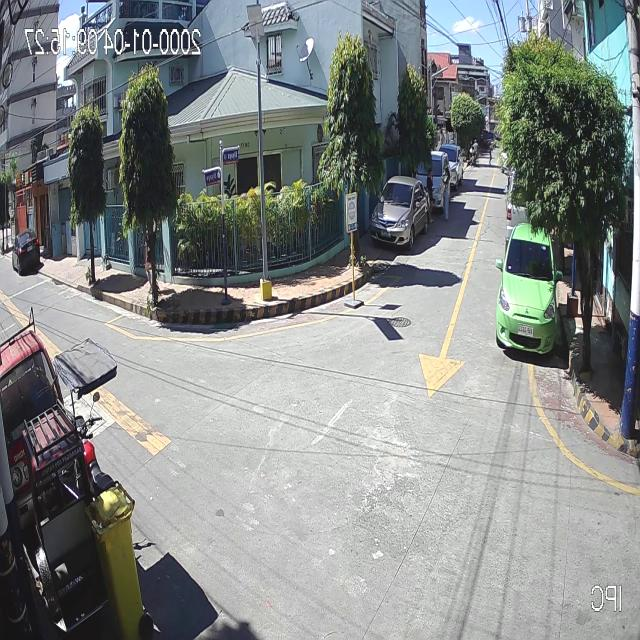standing: (439, 166, 452, 221), (425, 166, 436, 223)
walking: (473, 139, 480, 165), (488, 142, 494, 166)
